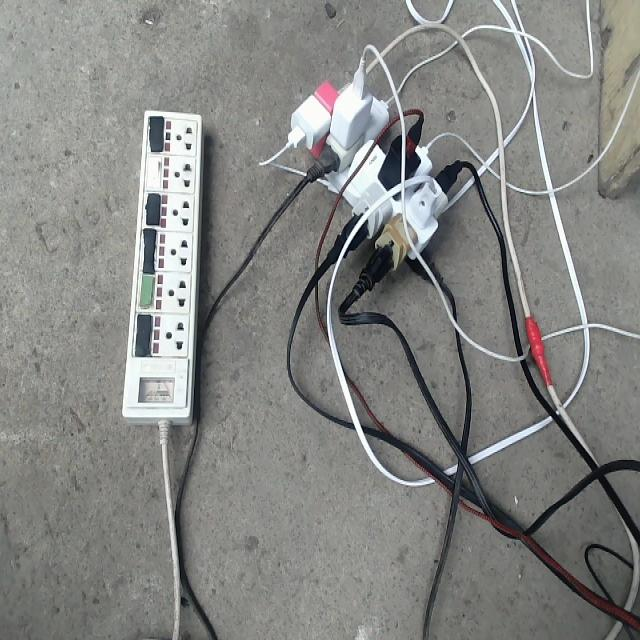-: (279, 49, 463, 294)
